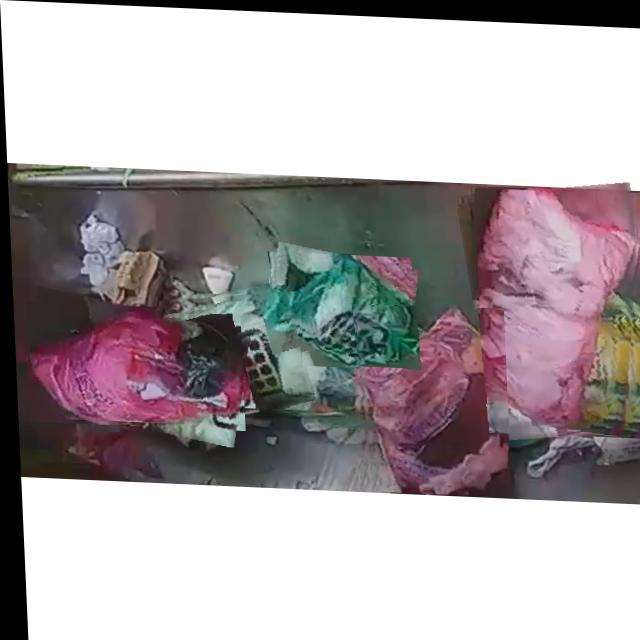general_trashbag: (158, 291, 299, 407), (270, 254, 408, 366)
other_trashbag: (477, 185, 635, 425), (355, 304, 506, 493), (25, 312, 239, 422)
